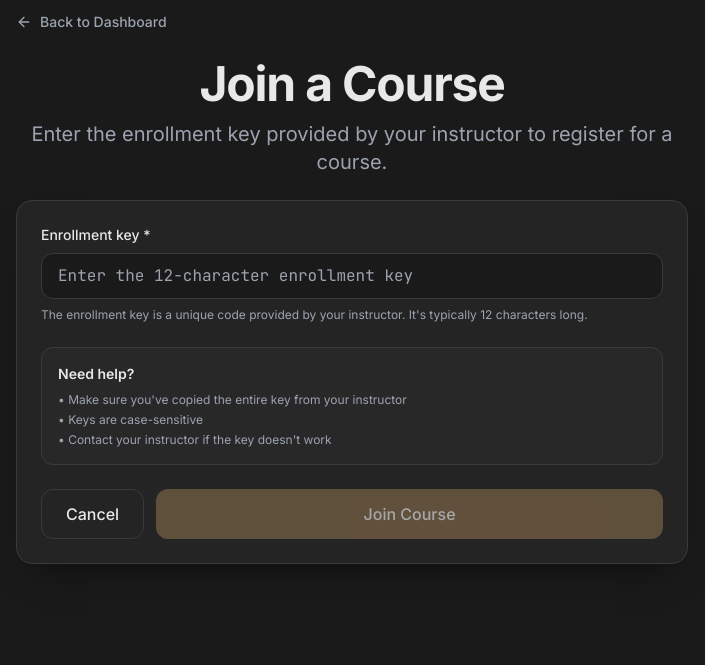
Scenario: JoinCoursePage › shows error for invalid key
The image size is (705, 665).
Type "INVALID" into the field labelled "Enrollment key *".
click(352, 276); type("INVALID")  # box x1=41 y1=253 x2=663 y2=299
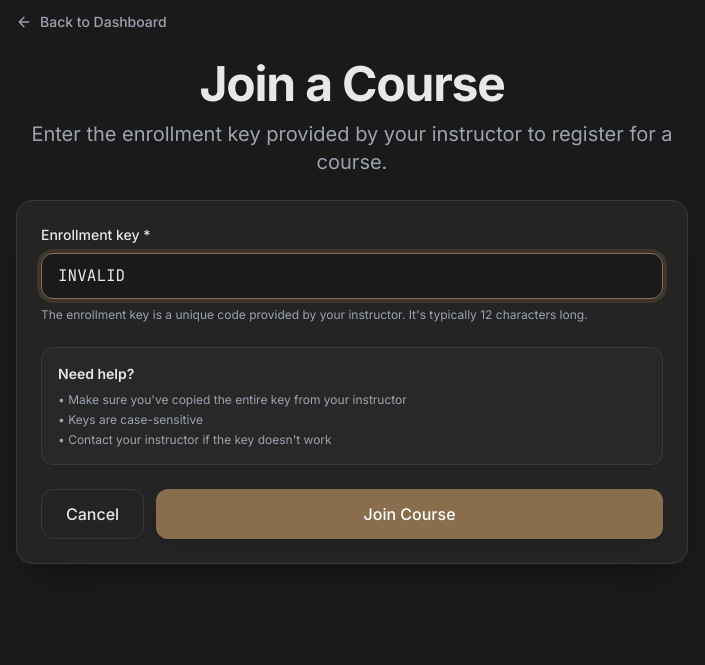
Click the button "Join Course".
click(410, 514)  # box x1=156 y1=489 x2=663 y2=539
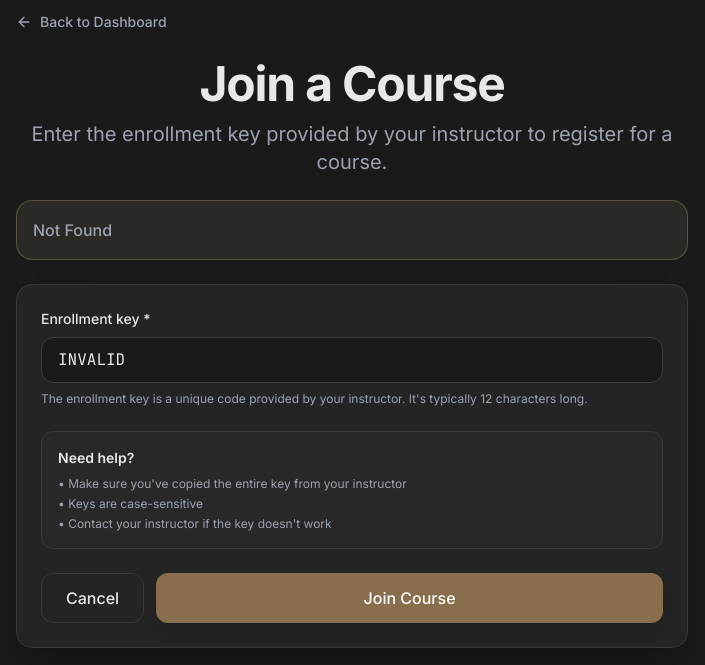
expect the text "Not Found" is shown: met, box x1=33 y1=220 x2=112 y2=240
